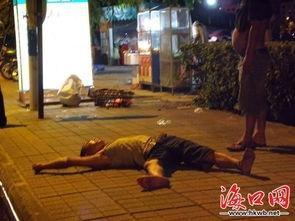Fall-Detected: (30, 123, 261, 188)
